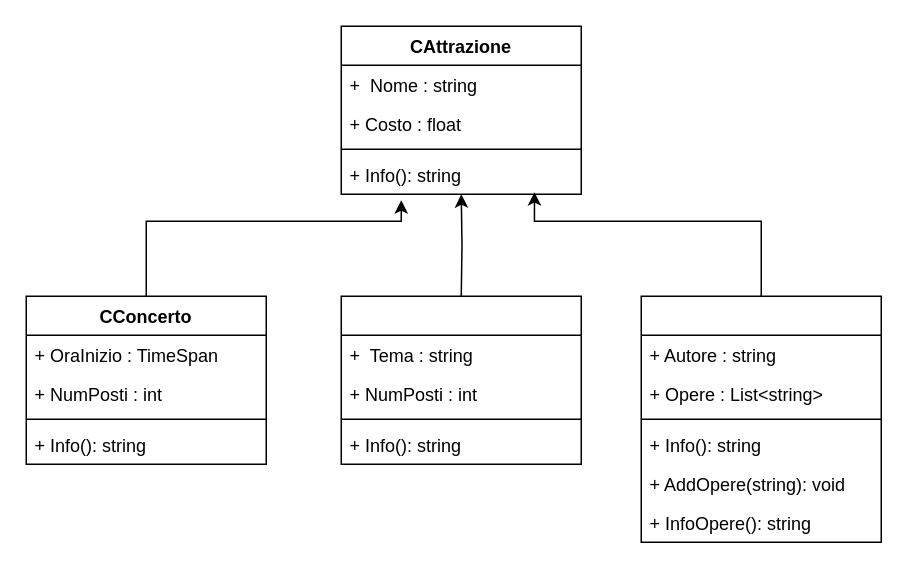
Some shapes in this 908 by 573 pixel diagram are drawn without their labels. Here are the shapes that lost their labels. From the top down, the box of each, then its label:
(340, 295, 581, 464): CGiostra
(640, 295, 881, 542): CMostra
